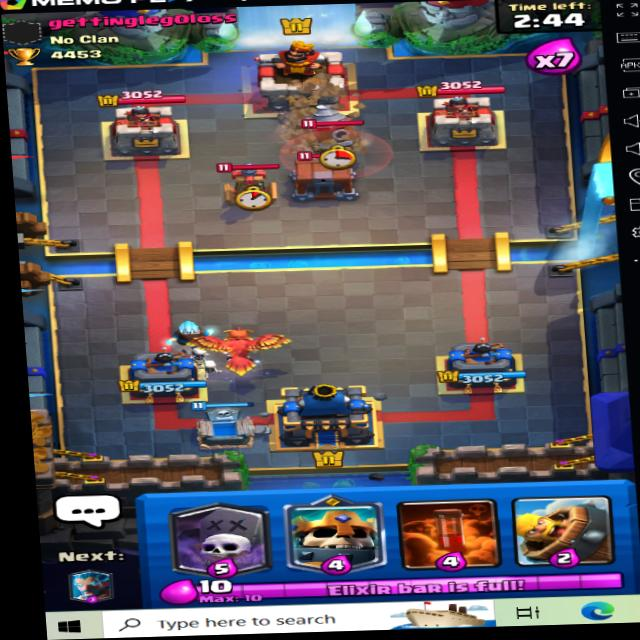Goblincage: (282, 149, 361, 202)
Goblindrill: (299, 100, 370, 154)
Tesla: (208, 155, 282, 208)
